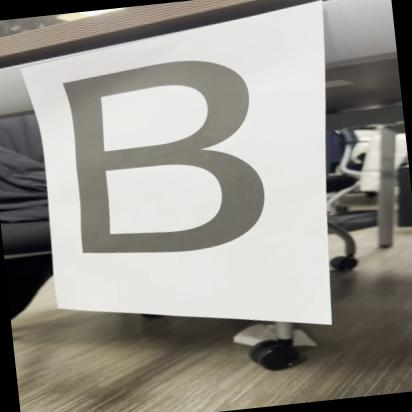seat: (41, 48, 294, 274)
